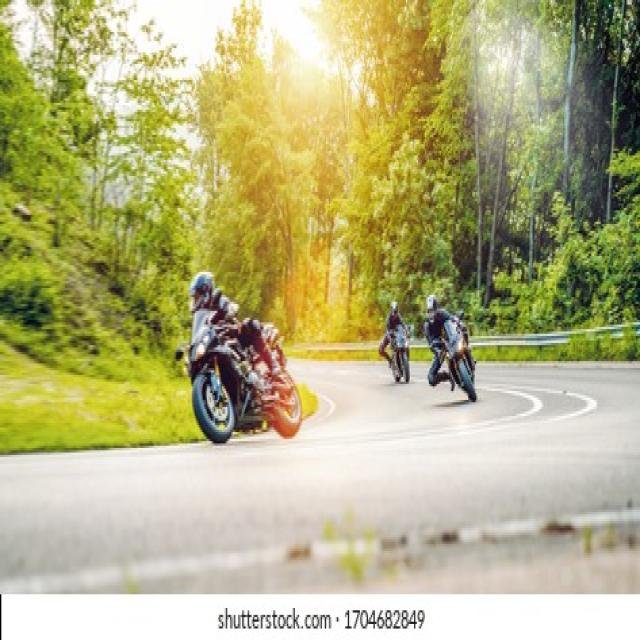Bike: (189, 314, 302, 441), (432, 318, 478, 405), (389, 327, 412, 383)
